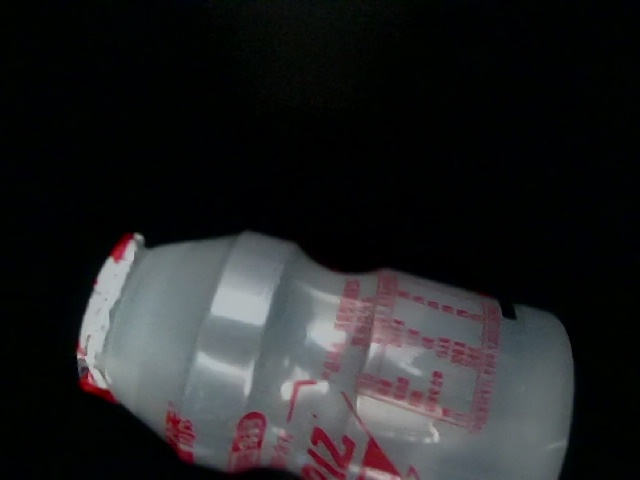CYLJ: (33, 1, 369, 173)
